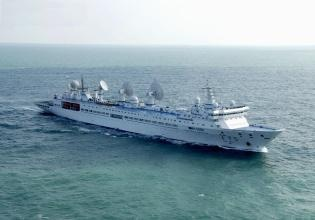youlun: (31, 72, 294, 149)
